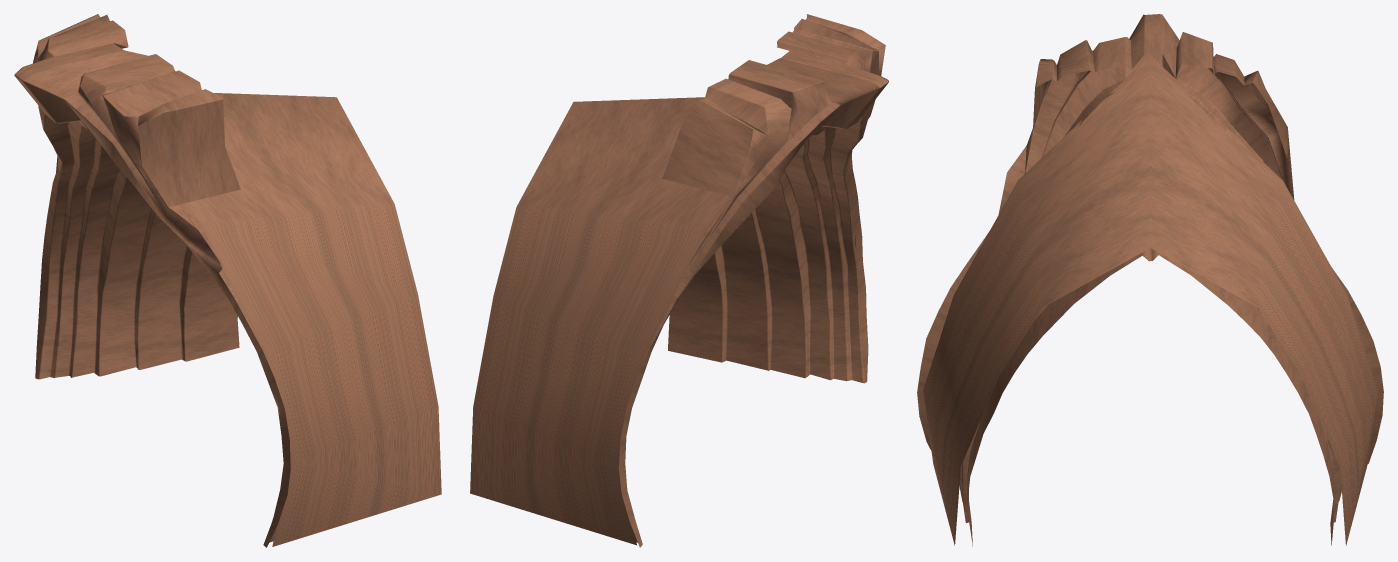
Rendered from Geonosis_Tunnel01_Entrance.fbx.
3 views of the same model, side by side, from view 1: azimuth 30°, elevation 25°; view 2: azimuth 150°, elevation 25°; view 3: azimuth 270°, elevation 25° (orthographic). The views are drawn at different scales.
Visible parts, largest first — view 1: Geonosis_Tunnel01_Entrance; view 2: Geonosis_Tunnel01_Entrance; view 3: Geonosis_Tunnel01_Entrance.
Boxes of the visible parts, x1,y1,x2,y2 form: Geonosis_Tunnel01_Entrance: [14, 14, 441, 547]; Geonosis_Tunnel01_Entrance: [470, 14, 888, 547]; Geonosis_Tunnel01_Entrance: [917, 14, 1383, 546].
Size of the model in its own units: 920 by 1177 by 1256.
